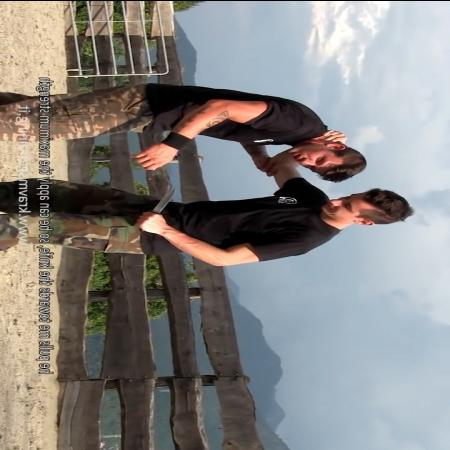long weapon: (133, 186, 182, 232)
